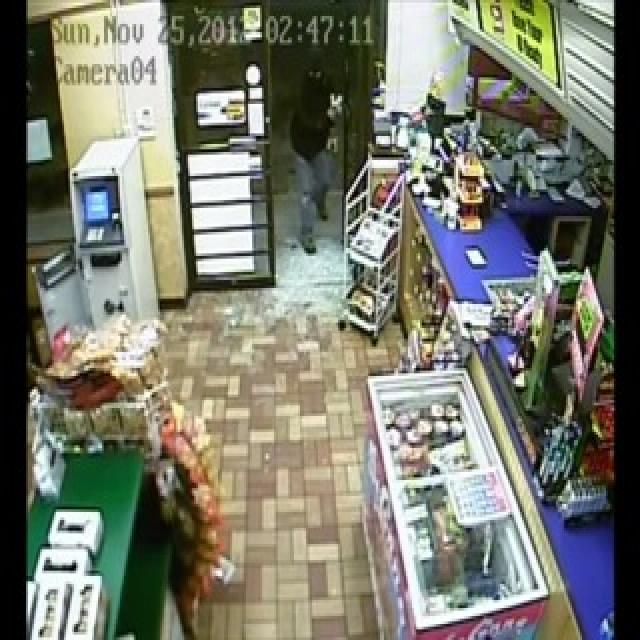thief: (291, 56, 339, 255)
